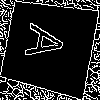A: (24, 22, 75, 66)
